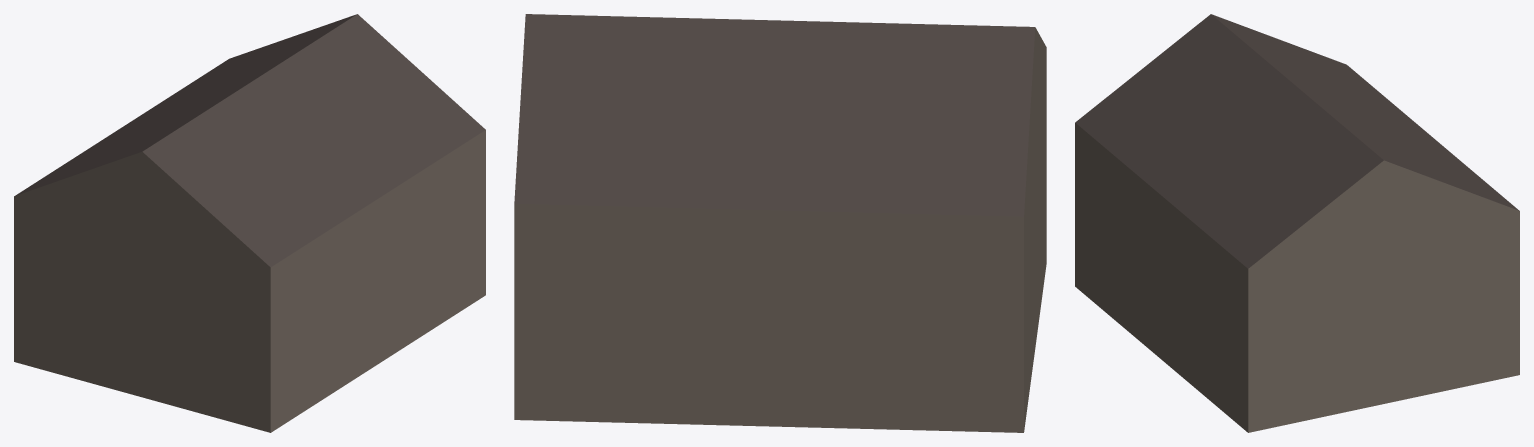
The picture shows the model from 3 angles, left to right: view 1: azimuth 30°, elevation 25°; view 2: azimuth 150°, elevation 25°; view 3: azimuth 270°, elevation 25°; orthographic projection. The views are drawn at different scales.
Parts seen in each view (by area): view 1: HP-w299010072; view 2: HP-w299010072; view 3: HP-w299010072.
Boxes of the visible parts, x1,y1,x2,y2 form: HP-w299010072: (14,14,485,432); HP-w299010072: (514,14,1046,432); HP-w299010072: (1075,14,1519,432).
Bounding box in the file's own units: 24.03 × 13.37 × 22.11.
